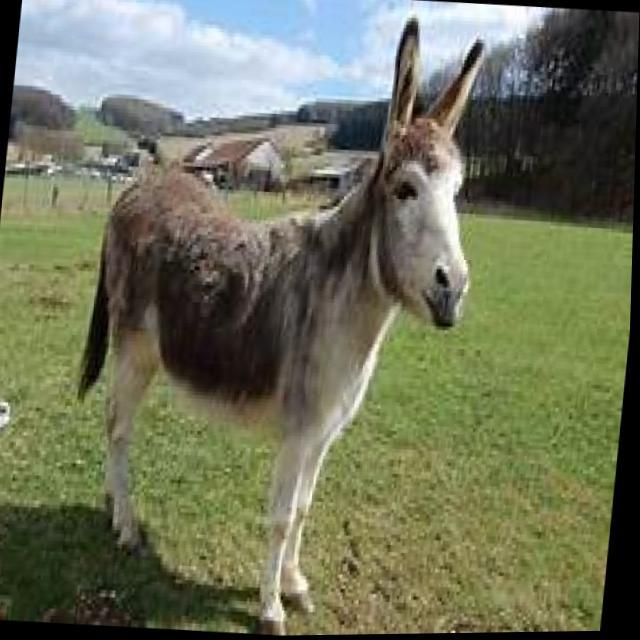Donkey: (44, 6, 521, 618)
